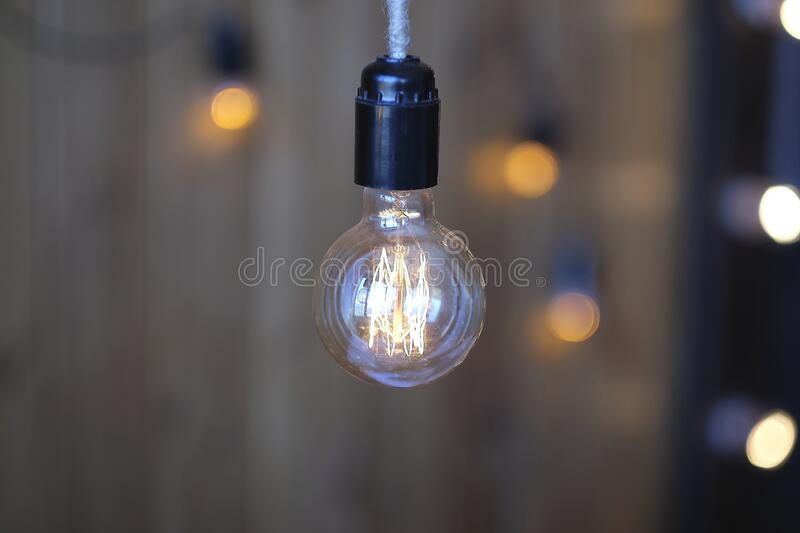bulb: (294, 151, 504, 388)
